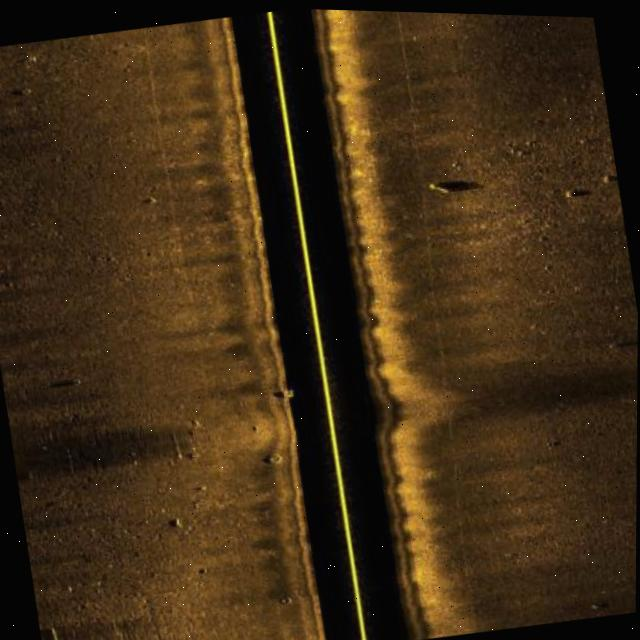mine: (423, 167, 483, 200), (40, 620, 67, 640)
other: (265, 446, 290, 468)
